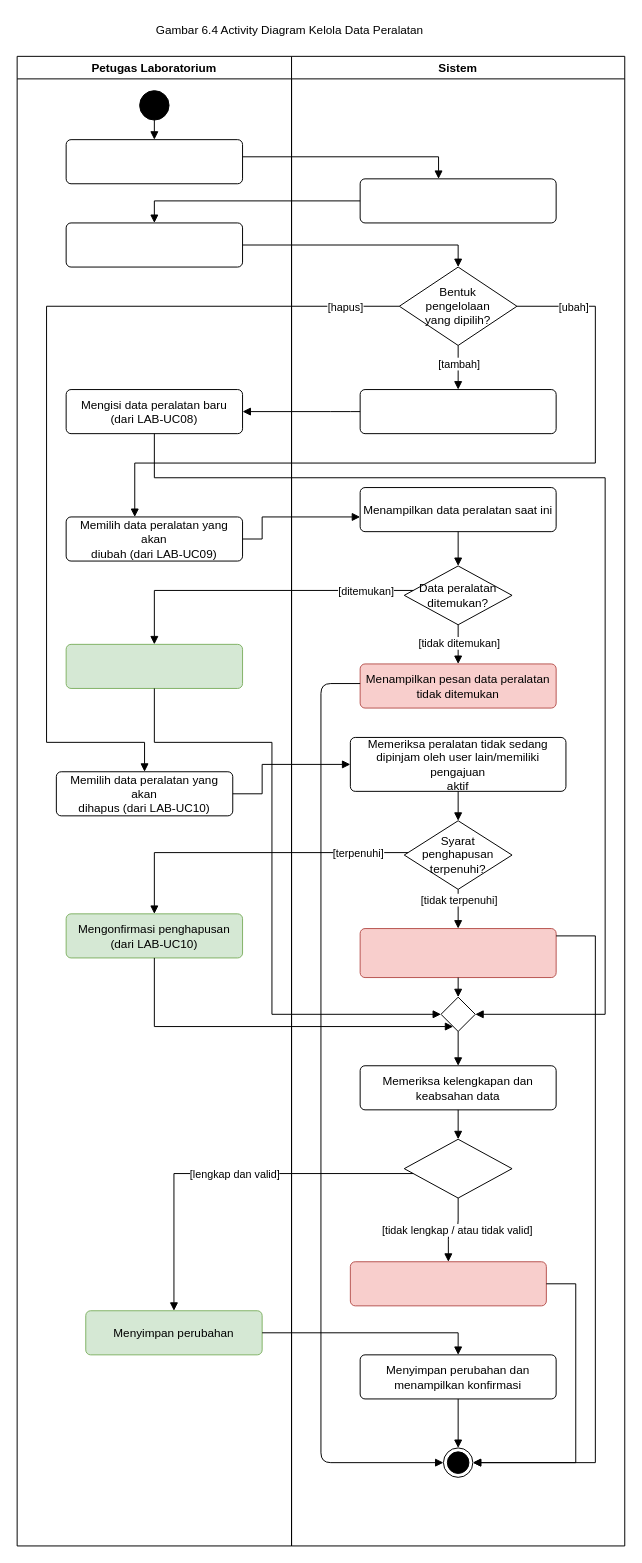
Some shapes in this 642 by 1563 pixel diagram are drawn without their labels. The shapes that lost their labels are listed below. From the top down, each one's centre as x and y in pixels, then its label:
At (x=154, y=161): "Membuka fungsi Kelola Data Peralatan".
At (x=457, y=200): "Menampilkan daftar data peralatan".
At (x=154, y=244): "Memilih bentuk pengelolaan (tambah, ubah, atau hapus)".
At (x=457, y=411): "Menampilkan formulir data peralatan baru".
At (x=154, y=665): "Mengubah data peralatan (dari LAB-UC09)".
At (x=457, y=953): "Menolak penghapusan dan menampilkan pesan peralatan masih terpakai".
At (x=457, y=1168): "Data lengkap dan valid?".
At (x=447, y=1283): "Menolak penyimpanan dan menampilkan pesan kesalahan data".
